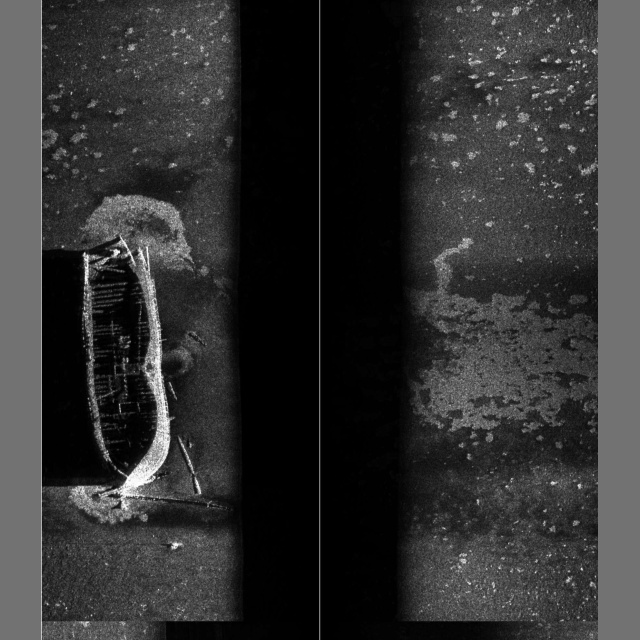Shipwreck: (80, 234, 233, 512)
